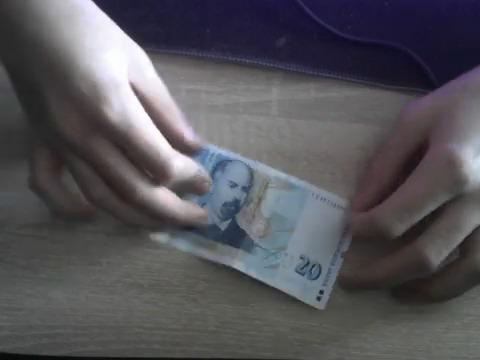20leva: (151, 142, 351, 311)
